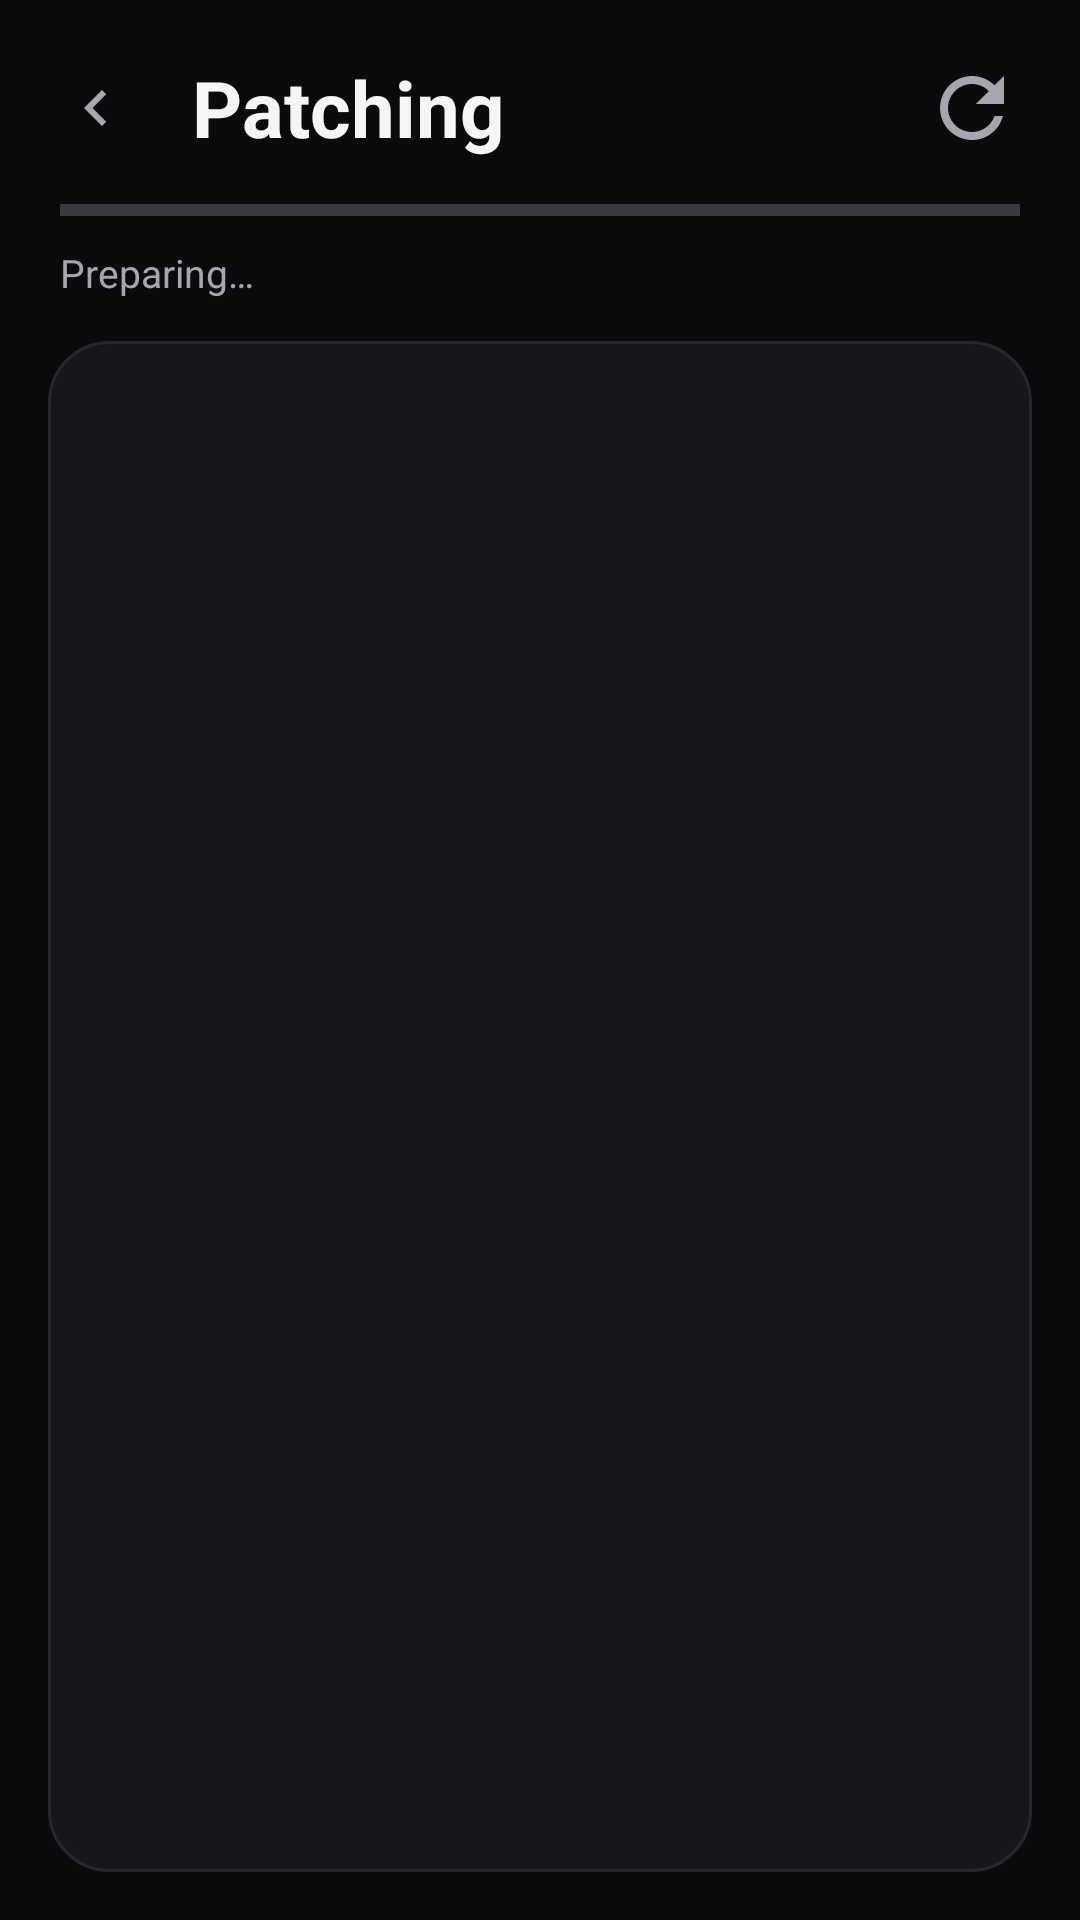

Screen size 1080×1920. Icon name, then its box in pixels as BBox(x1, y1, x2, y2):
refresh: BBox(940, 76, 1004, 140)
